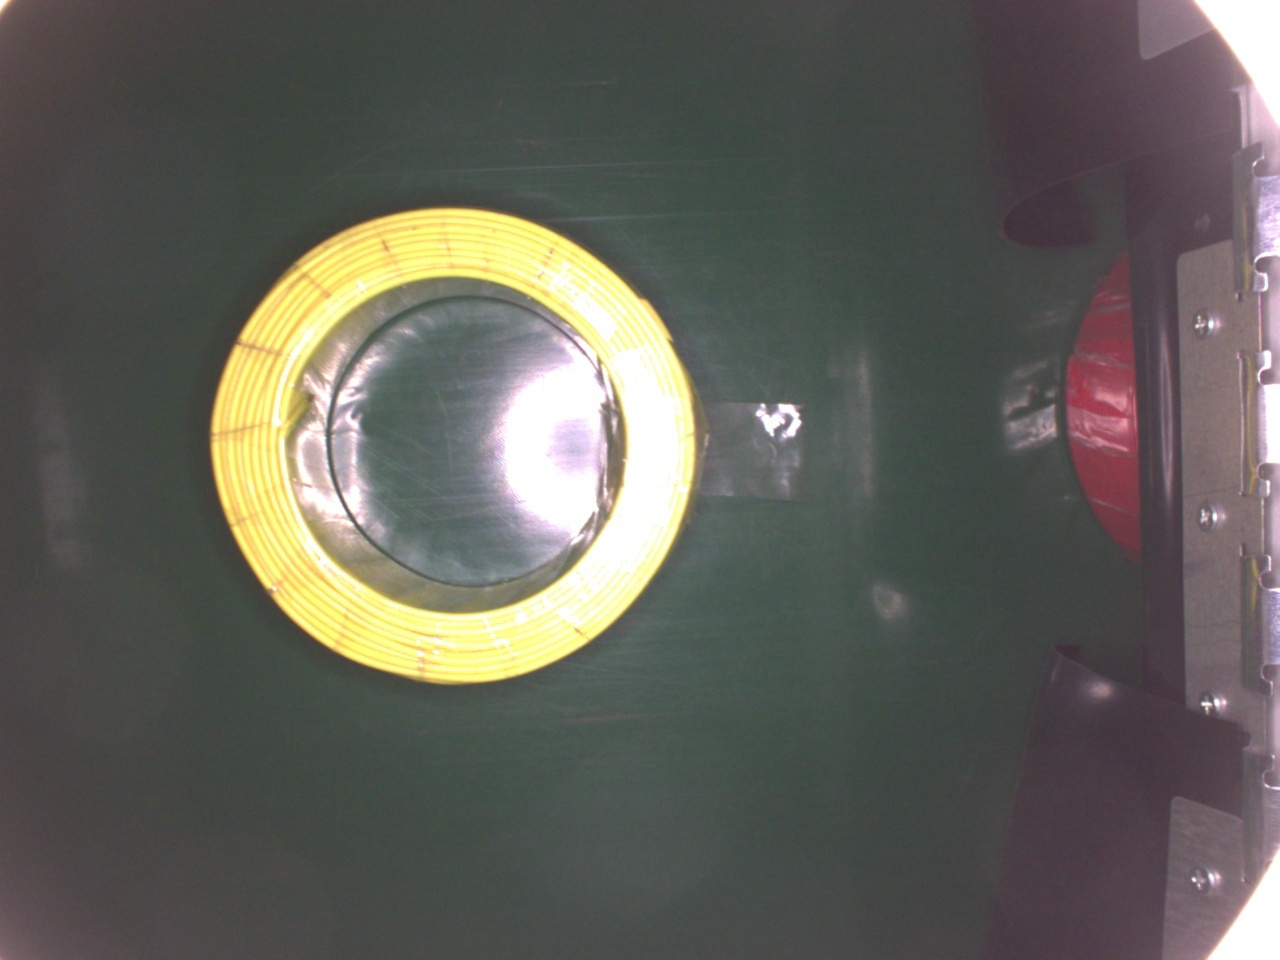yellow: (211, 207, 698, 690)
